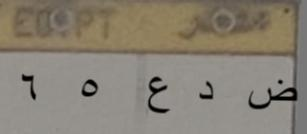5: (76, 72, 105, 101)
6: (15, 66, 41, 105)
ain: (142, 73, 172, 119)
daad: (243, 74, 298, 112)
daal: (193, 76, 218, 105)
